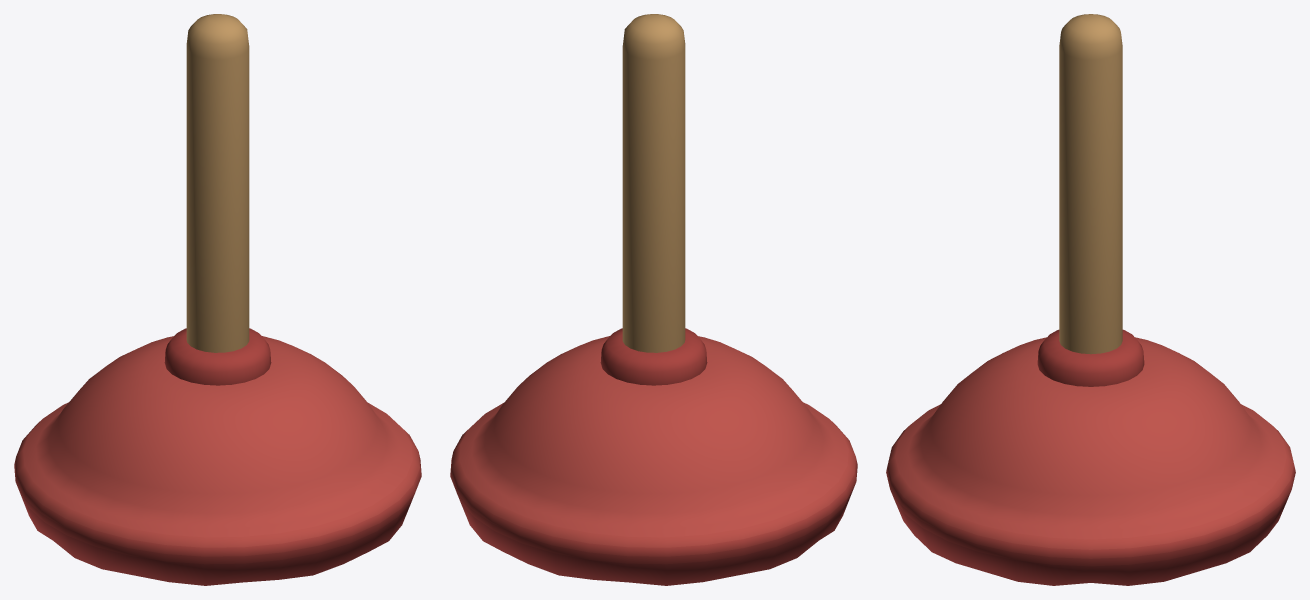
The model's file is Cosmetic_Plunger.glb.
The picture shows the model from 3 angles, left to right: view 1: azimuth 30°, elevation 25°; view 2: azimuth 150°, elevation 25°; view 3: azimuth 270°, elevation 25°; orthographic projection.
Visible parts, largest first — view 1: Cosmetic_Plunger; view 2: Cosmetic_Plunger; view 3: Cosmetic_Plunger.
Part boxes in pixels (x1=…): Cosmetic_Plunger: x1=14, y1=14, x2=421, y2=585; Cosmetic_Plunger: x1=450, y1=14, x2=857, y2=585; Cosmetic_Plunger: x1=886, y1=14, x2=1295, y2=585.
Size of the model in its own units: 0.452 by 0.5948 by 0.452.
